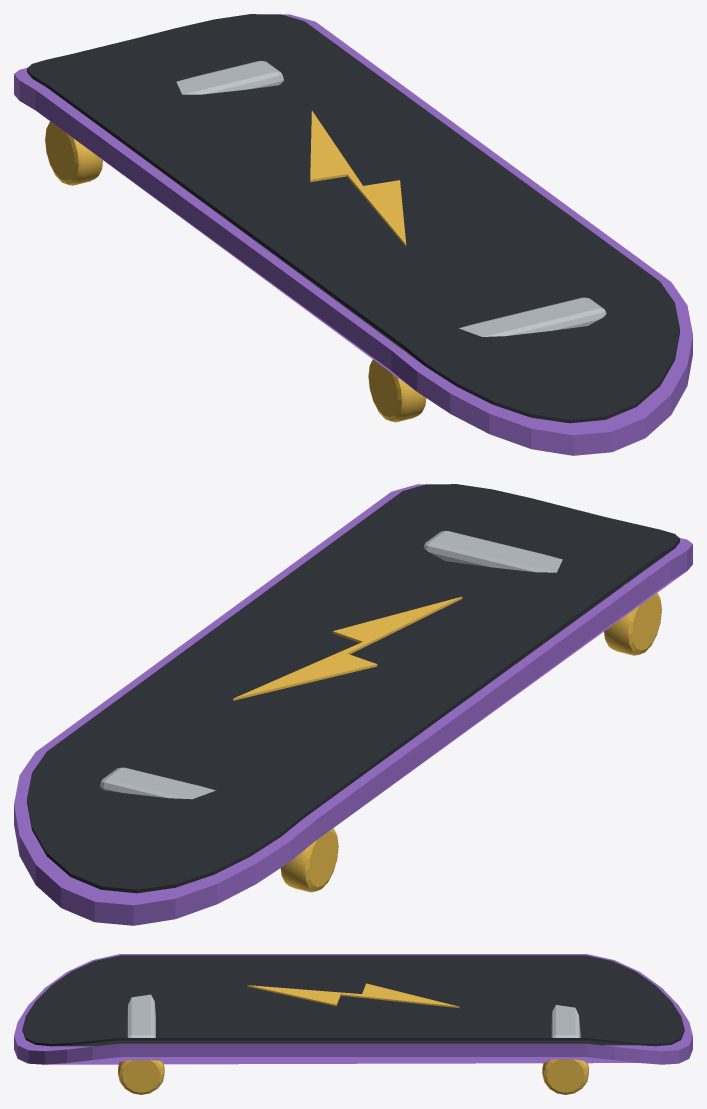
The model's file is skate.glb.
The picture shows the model from 3 angles, top to bottom: view 1: azimuth 30°, elevation 25°; view 2: azimuth 150°, elevation 25°; view 3: azimuth 270°, elevation 25°; orthographic projection. The views are drawn at different scales.
Parts seen in each view (by area): view 1: skate; view 2: skate; view 3: skate.
Part boxes in pixels (x1,y1,x2,y2): skate: (14,14,692,455); skate: (14,484,692,925); skate: (14,954,692,1094).
Size of the model in its own units: 0.5 by 0.157 by 1.6.
